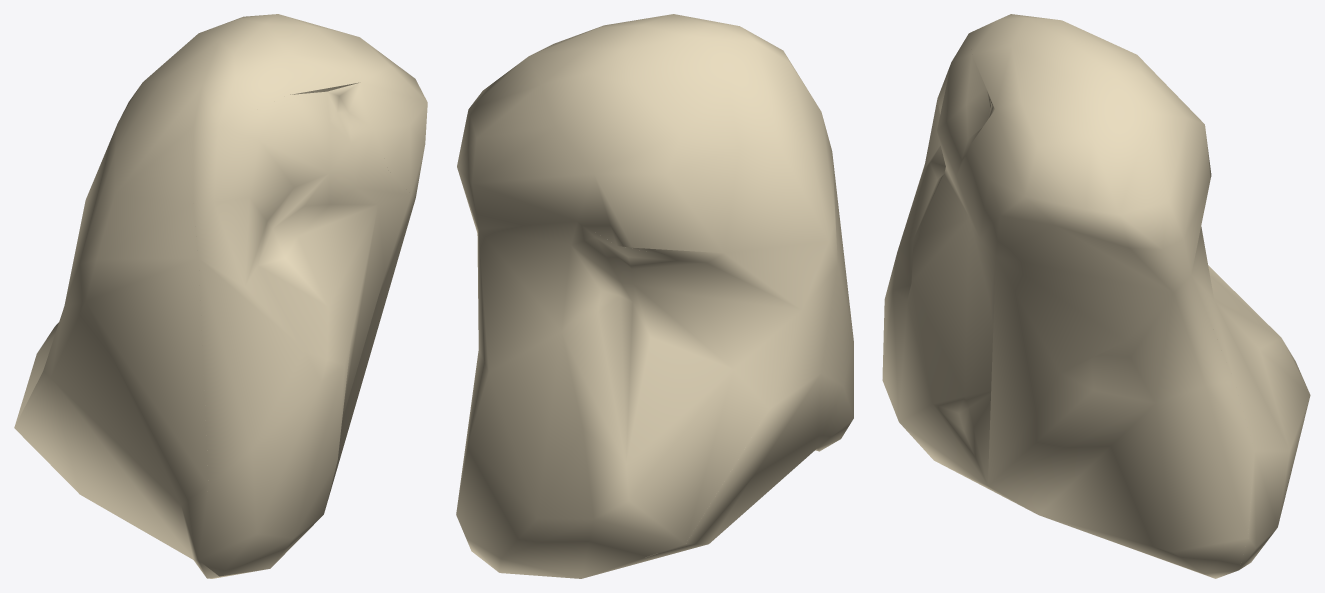
Rendered from esqueleto-capitate-bone-r.glb.
The picture shows the model from 3 angles, left to right: view 1: azimuth 30°, elevation 25°; view 2: azimuth 150°, elevation 25°; view 3: azimuth 270°, elevation 25°; orthographic projection. The views are drawn at different scales.
Visible parts, largest first — view 1: Capitate bone.r; view 2: Capitate bone.r; view 3: Capitate bone.r.
Part boxes in pixels (x1=…): Capitate bone.r: x1=14, y1=14, x2=427, y2=578; Capitate bone.r: x1=456, y1=14, x2=853, y2=578; Capitate bone.r: x1=882, y1=14, x2=1310, y2=578.
Bounding box in the file's own units: 0.0166 × 0.0234 × 0.018.
